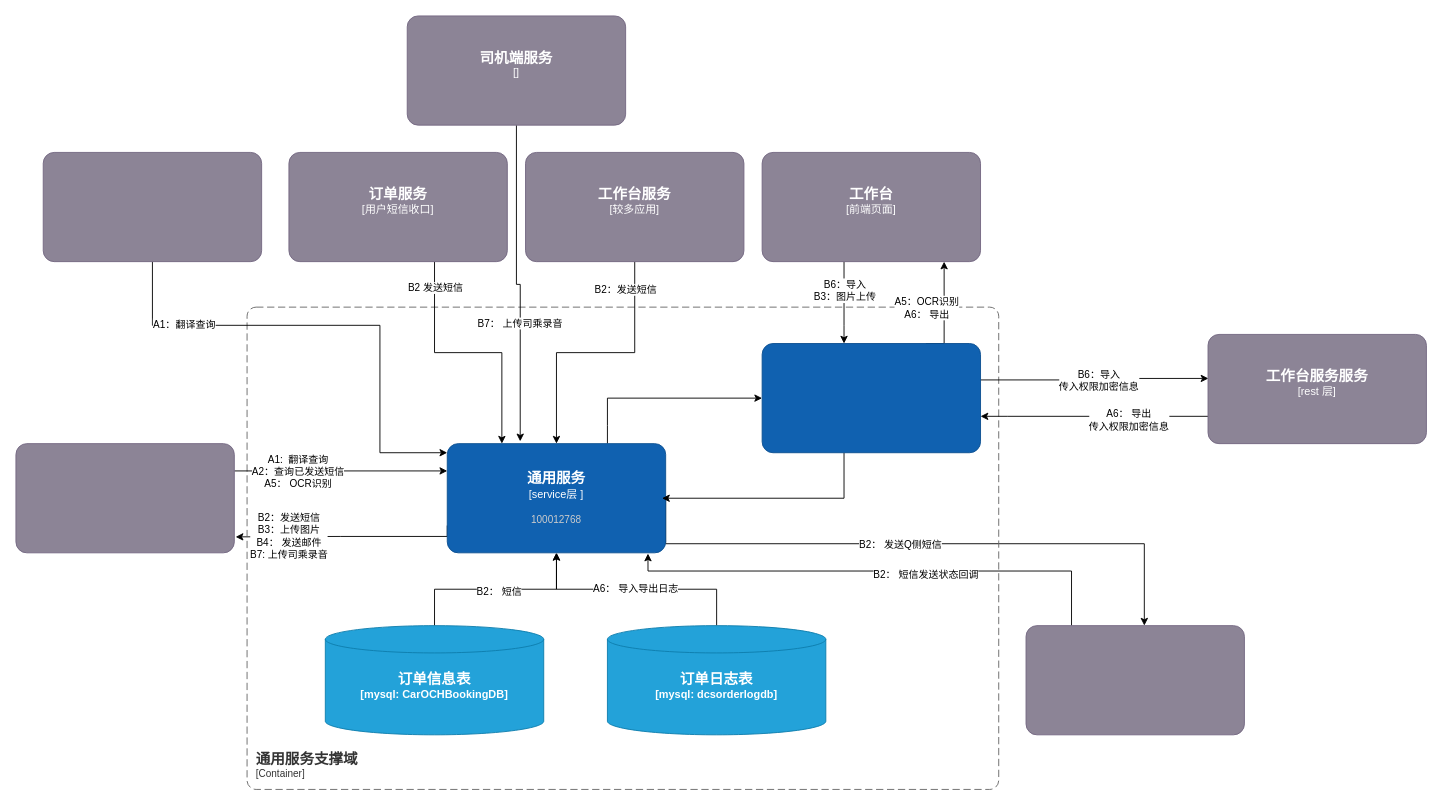
Image size: 1442x805. Some labels were removed from this diagram. The centre of each missing label's shape, as x and y in pixels:
"C侧中台底层服务 [多个 service层] Description of external software system." goes at [124,498].
"Q侧服务 [service层] Description of external software system." goes at [1134,680].
"地理服务 [service]" goes at [152,207].
"通用服务 [rest层] 100012768" goes at [871,398].
